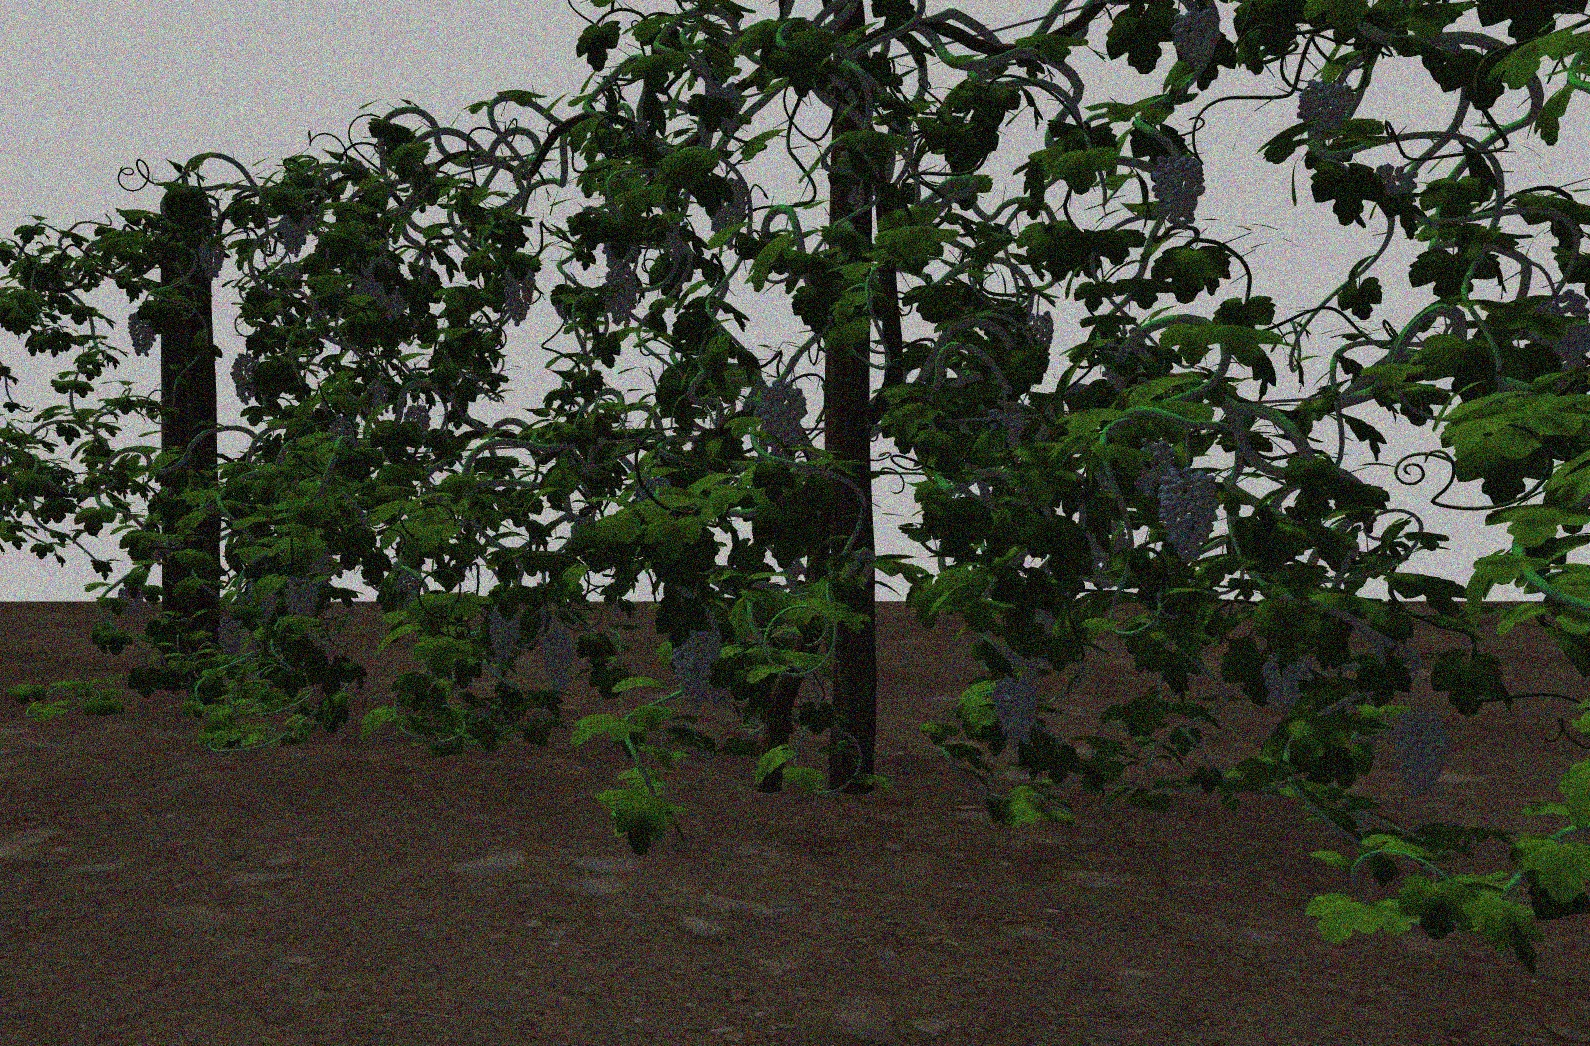grape: (1385, 707, 1457, 799), (1153, 467, 1223, 559), (1146, 147, 1207, 231), (986, 671, 1045, 747), (670, 630, 720, 713), (1293, 75, 1353, 144), (1258, 651, 1314, 720), (759, 376, 807, 456), (1169, 9, 1222, 76), (703, 177, 751, 245), (537, 628, 577, 692), (502, 261, 537, 329), (604, 267, 639, 330), (488, 605, 519, 663), (284, 576, 320, 621), (230, 354, 260, 406), (278, 211, 313, 257), (127, 308, 156, 358), (196, 236, 226, 280), (217, 618, 246, 660), (403, 406, 432, 440), (116, 585, 144, 620)
